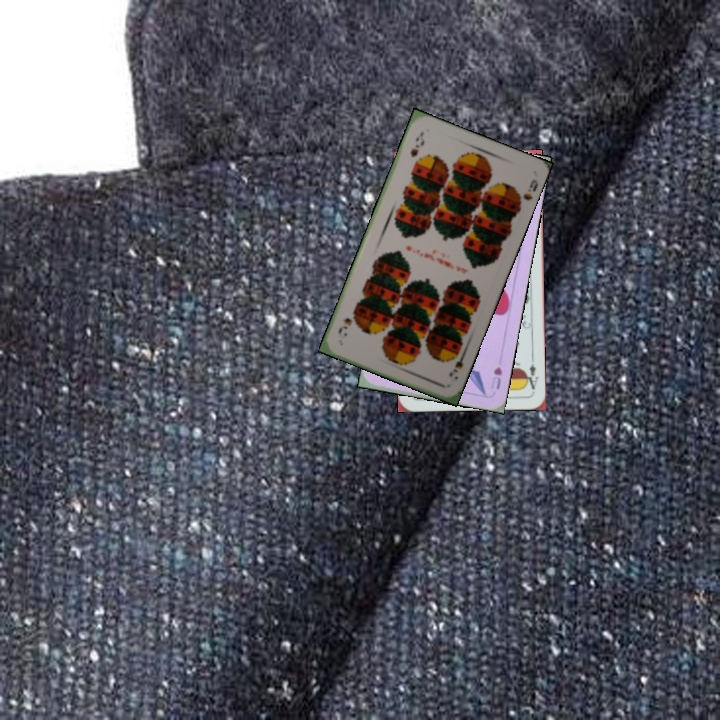EA: (521, 353, 541, 392)
HU: (487, 363, 505, 392)
S9: (445, 346, 469, 380), (406, 128, 427, 160)
